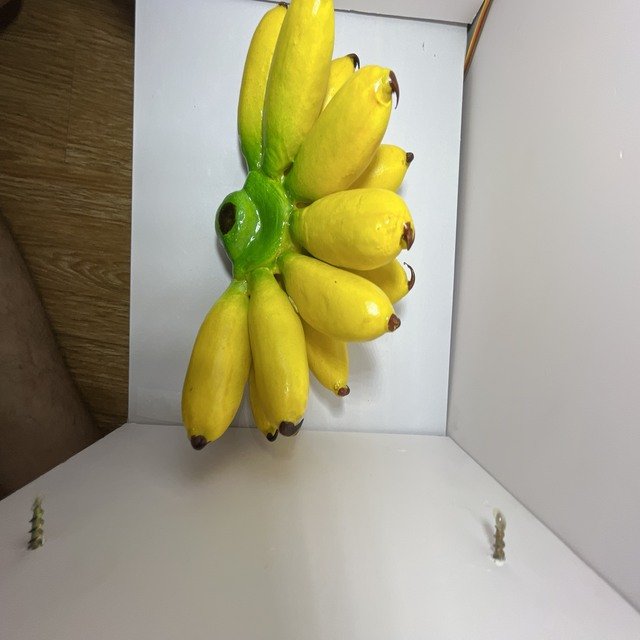Chuoi: (171, 0, 427, 448)
